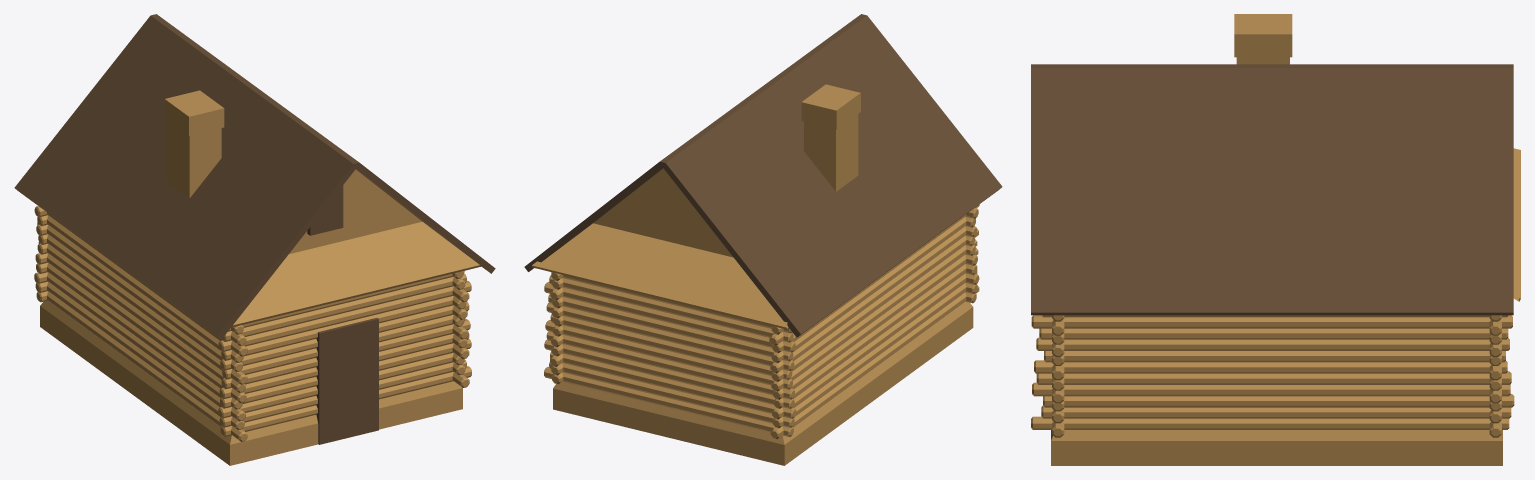
File: smallHouse3.fbx
The picture shows the model from 3 angles, left to right: view 1: azimuth 30°, elevation 25°; view 2: azimuth 150°, elevation 25°; view 3: azimuth 270°, elevation 25°; orthographic projection. The views are drawn at different scales.
Parts seen in each view (by area): view 1: Object; view 2: Object; view 3: Object.
Part boxes in pixels (<box>): Object: <box>14,14,495,465</box>; Object: <box>524,14,1002,465</box>; Object: <box>1031,14,1520,465</box>.
Bounding box in the file's own units: 3276 × 3191 × 4194.
